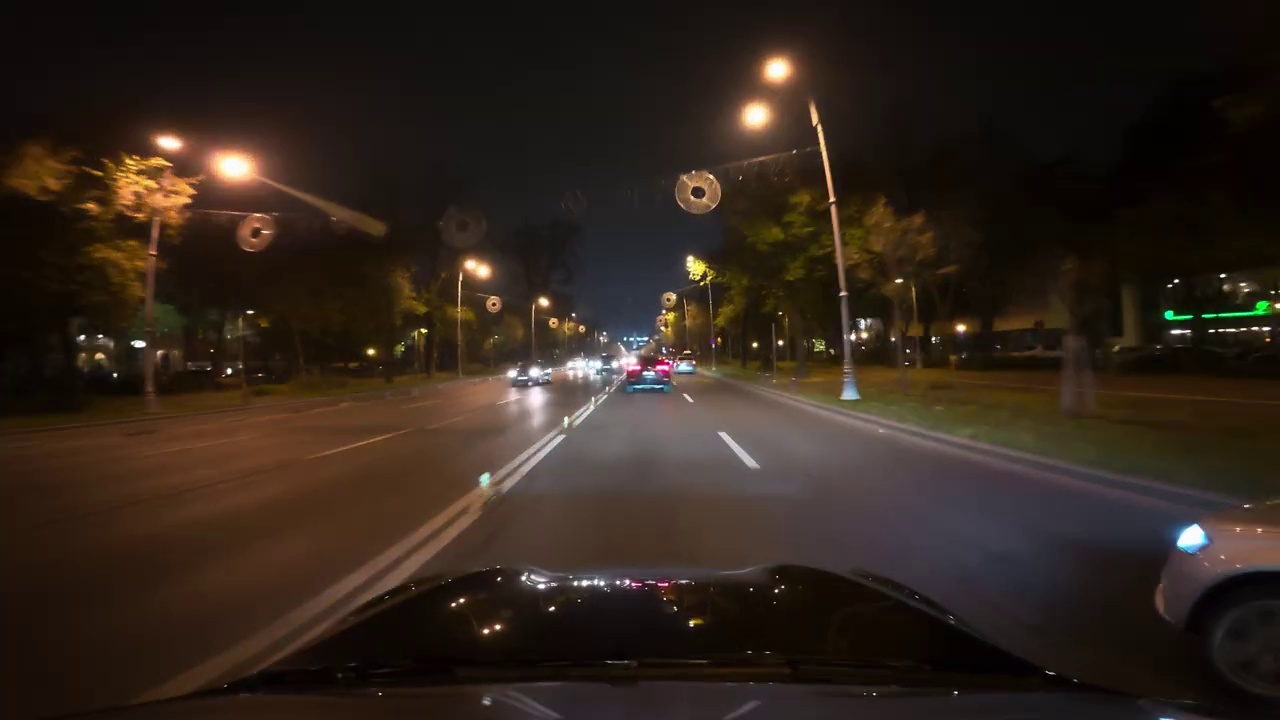acesa: (211, 151, 256, 186), (739, 101, 772, 131), (761, 55, 793, 85), (464, 258, 493, 281), (686, 256, 709, 281)
